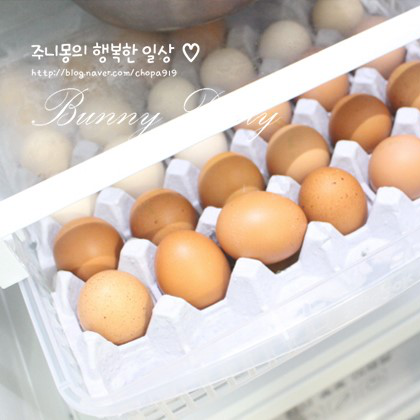egg: (1, 3, 420, 344)
